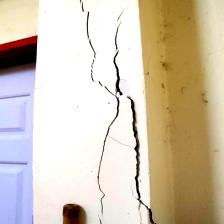High: (75, 1, 161, 224)
